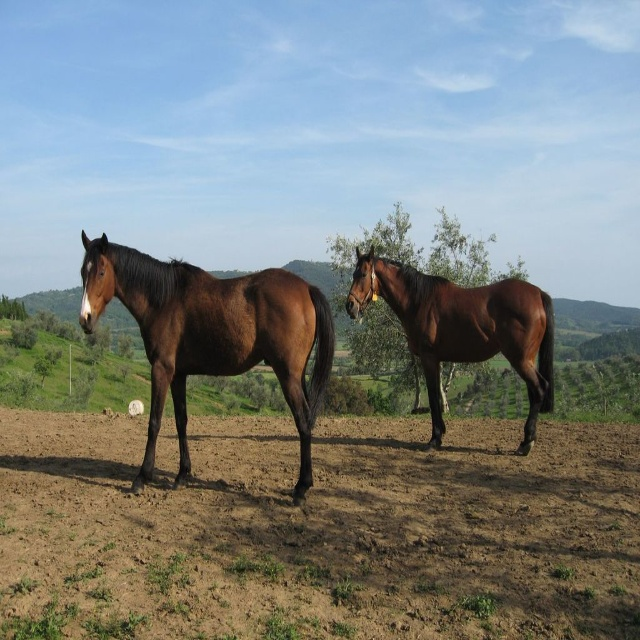Horse: (79, 229, 336, 507), (345, 245, 554, 456)
